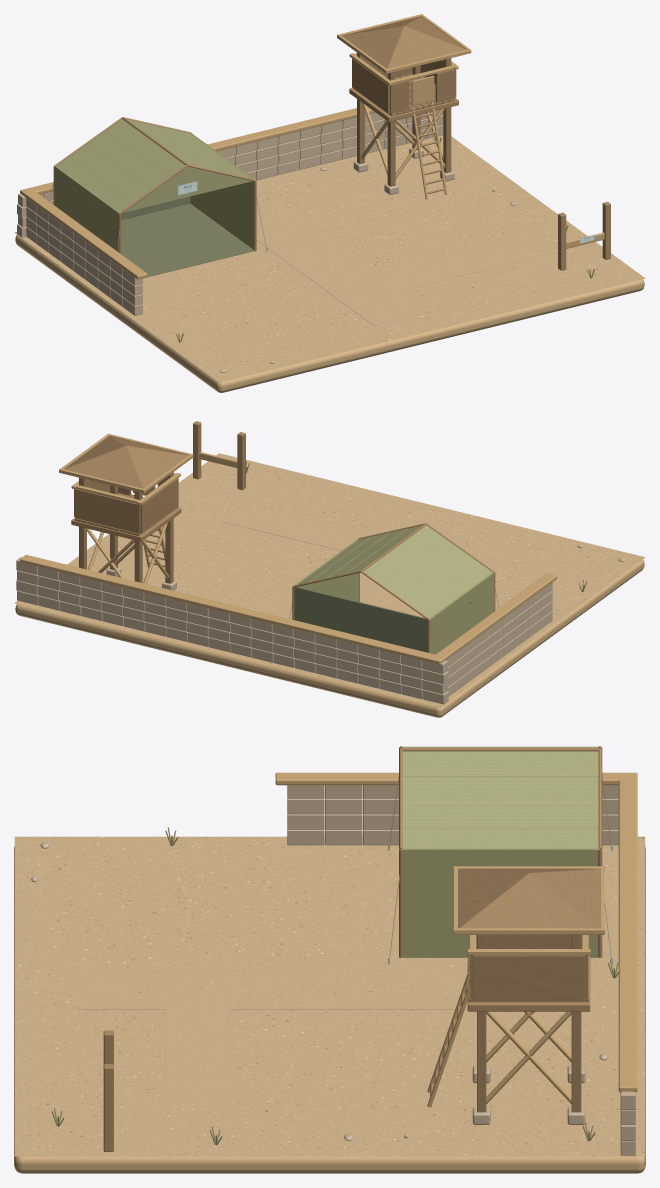
Rendered from soldier_hq.glb.
3 renders of one model, top to bottom at view 1: azimuth 30°, elevation 25°; view 2: azimuth 150°, elevation 25°; view 3: azimuth 270°, elevation 25°, orthographic. The views are drawn at different scales.
Visible parts, largest first — view 1: Sand_Surface, Canvas_Roof, Worn_Sand, Terrain_Edge, Tent_Groundsheet, Tower_Canopy, Worn_Sand_2, Canvas_Left, Canvas_Right, Entrance_Gable, Back_Wall_Coping, Left_Wall_Coping (+7 smaller); view 2: Sand_Surface, Canvas_Roof, Terrain_Edge, Canvas_Back, Back_Wall_Coping, Tower_Canopy, Canvas_Left, Worn_Sand_2, Tower_Guard_Panel, Left_Wall_Coping, Worn_Sand, Side_Guard_Panel (+7 smaller); view 3: Sand_Surface, Canvas_Roof, Worn_Sand, Terrain_Edge, Canvas_Right, Tower_Canopy, Worn_Sand_2, Back_Wall_Coping, Side_Guard_Panel_2, Left_Wall_Coping, Platform_Base, Tower_Post_3 (+16 smaller).
Boxes of the visible parts, x1,y1,x2,y2 form: Sand_Surface: [14, 135, 645, 382]; Canvas_Roof: [56, 119, 251, 212]; Worn_Sand: [256, 206, 429, 325]; Terrain_Edge: [15, 235, 644, 392]; Tent_Groundsheet: [121, 203, 253, 278]; Tower_Canopy: [342, 16, 466, 68]; Worn_Sand_2: [342, 244, 525, 299]; Canvas_Left: [54, 166, 119, 251]; Canvas_Right: [190, 133, 254, 249]; Entrance_Gable: [123, 166, 252, 212]; Back_Wall_Coping: [20, 106, 375, 196]; Left_Wall_Coping: [23, 190, 147, 279]; Sand_Surface: [14, 453, 645, 707]; Canvas_Roof: [297, 525, 492, 618]; Terrain_Edge: [15, 560, 644, 717]; Canvas_Back: [294, 587, 427, 652]; Back_Wall_Coping: [20, 554, 445, 664]; Tower_Canopy: [64, 436, 188, 488]; Canvas_Left: [429, 572, 494, 654]; Worn_Sand_2: [220, 506, 364, 550]; Tower_Guard_Panel: [75, 489, 140, 533]; Left_Wall_Coping: [435, 573, 557, 661]; Worn_Sand: [263, 515, 451, 619]; Side_Guard_Panel: [140, 478, 178, 533]; Sand_Surface: [14, 836, 645, 1156]; Canvas_Roof: [402, 751, 598, 848]; Worn_Sand: [77, 967, 467, 1009]; Terrain_Edge: [14, 846, 645, 1173]; Canvas_Right: [401, 848, 599, 957]; Tower_Canopy: [458, 869, 599, 928]; Worn_Sand_2: [165, 969, 228, 1103]; Back_Wall_Coping: [618, 772, 637, 1092]; Side_Guard_Panel_2: [473, 955, 584, 1000]; Left_Wall_Coping: [275, 772, 626, 785]; Platform_Base: [467, 955, 590, 1011]; Tower_Post_3: [571, 935, 581, 1112].
Size of the model in its own units: 12.02 by 4.32 by 10.
Materials: 15 (6 with a texture image).
